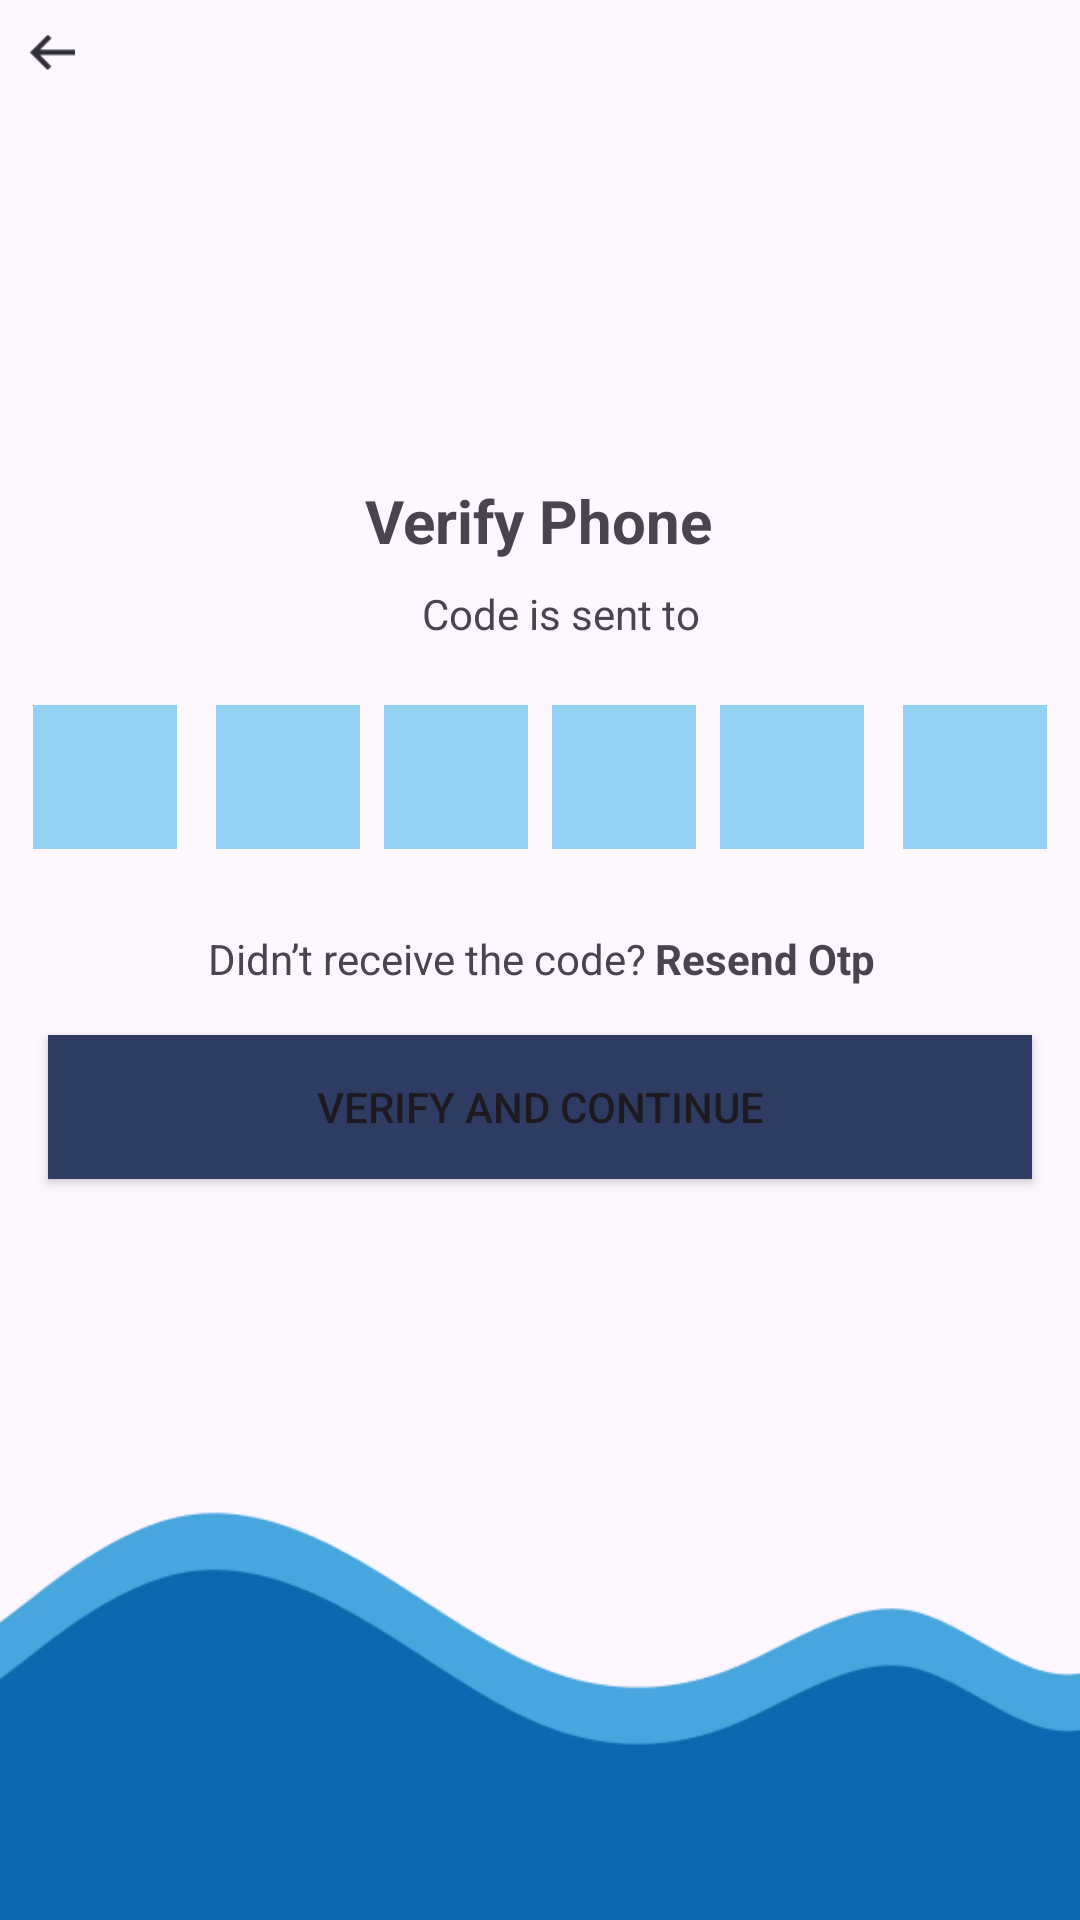

Named icons in this screenshot (1080px×1920px) and their centers, (x=x, y=y):
back: (x=52, y=52)
